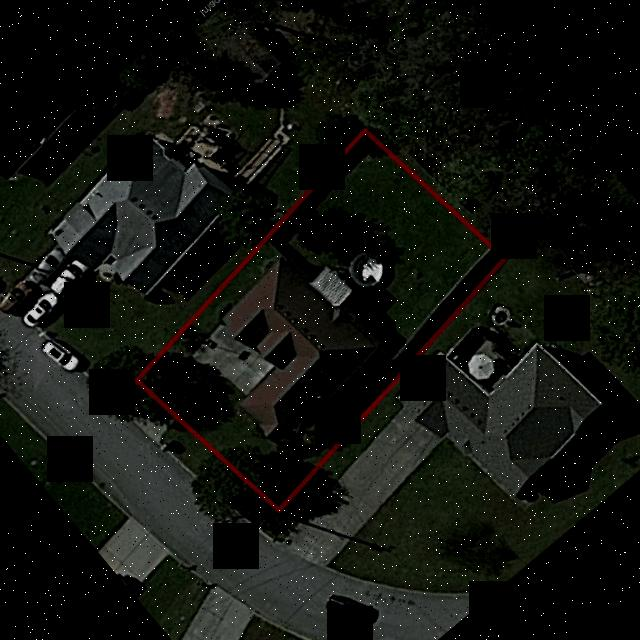Driveway: (153, 327, 269, 413)
Extra Driveway: (129, 417, 165, 444)
Extra Lawn: (161, 428, 209, 474)
House: (220, 254, 379, 443)
Other: (307, 266, 351, 305), (347, 252, 382, 286)
